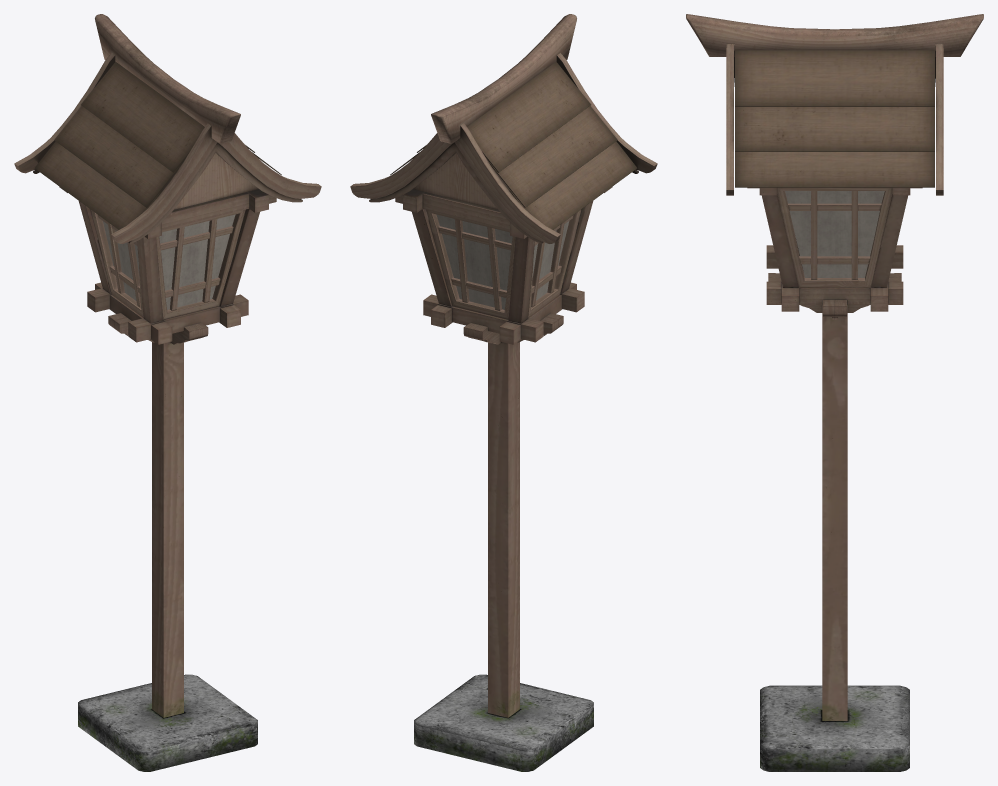
Rendered from toro2.glb.
3 views of the same model, side by side, from view 1: azimuth 30°, elevation 25°; view 2: azimuth 150°, elevation 25°; view 3: azimuth 270°, elevation 25° (orthographic). The views are drawn at different scales.
Size of the model in its own units: 0.4983 by 1.54 by 0.5729.
Materials: 10 (10 with a texture image).
